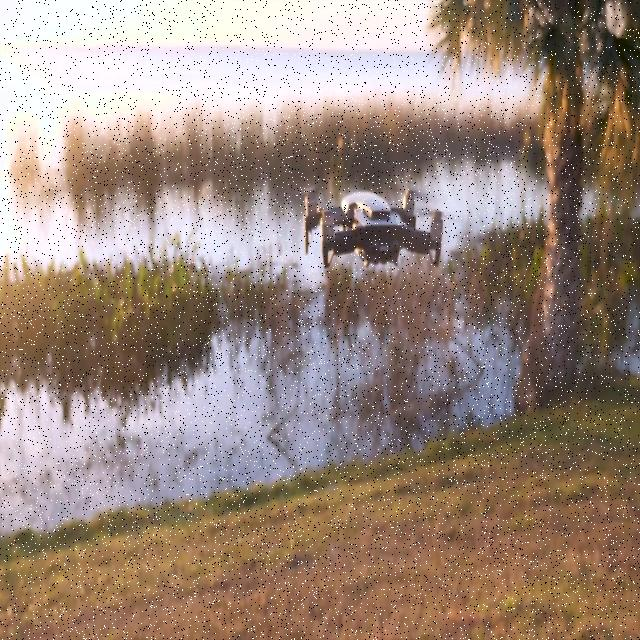UAV: (302, 188, 450, 270)
